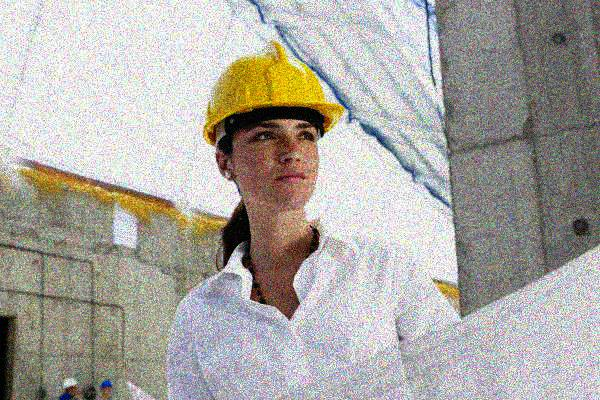helmet: (201, 40, 346, 203), (61, 375, 78, 396), (100, 379, 114, 396)
